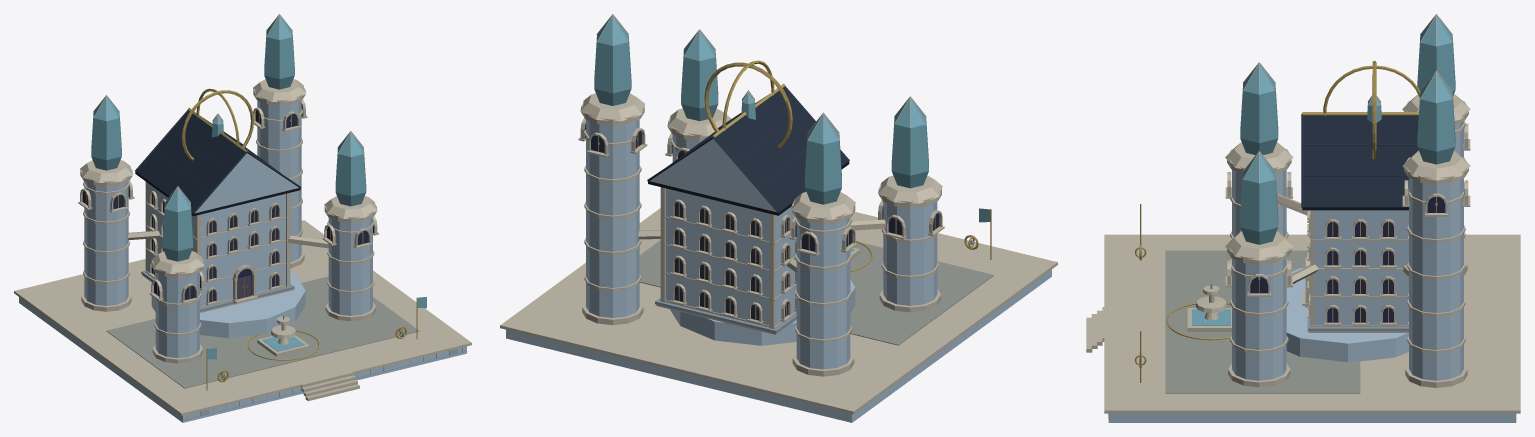
File: arcane.glb
The picture shows the model from 3 angles, left to right: view 1: azimuth 30°, elevation 25°; view 2: azimuth 150°, elevation 25°; view 3: azimuth 270°, elevation 25°; orthographic projection. The views are drawn at different scales.
Visible parts, largest first — view 1: star-citadel, precinct-base, star-citadel-roof, inhabited-detail; view 2: star-citadel, precinct-base, star-citadel-roof; view 3: precinct-base, star-citadel, star-citadel-roof, inhabited-detail.
Boxes of the visible parts, left/top/right/bottom form: star-citadel: left=78, top=86, right=378, bottom=363; precinct-base: left=14, top=220, right=471, bottom=422; star-citadel-roof: left=80, top=14, right=377, bottom=273; inhabited-detail: left=183, top=297, right=466, bottom=420; star-citadel: left=578, top=60, right=944, bottom=376; precinct-base: left=500, top=208, right=1057, bottom=422; star-citadel-roof: left=580, top=14, right=942, bottom=219; precinct-base: left=1104, top=234, right=1520, bottom=422; star-citadel: left=1166, top=61, right=1470, bottom=387; star-citadel-roof: left=1225, top=14, right=1470, bottom=260; inhabited-detail: left=1086, top=204, right=1146, bottom=419.
Size of the model in its own units: 23.5 by 19.84 by 24.52.
